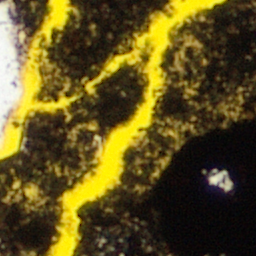cement_matrix: (74, 0, 255, 255), (0, 0, 169, 255), (0, 0, 48, 63), (210, 172, 228, 187), (23, 185, 38, 200), (84, 80, 96, 92)
cracks: (48, 0, 225, 255), (0, 0, 72, 161)
gravel_crushed_stones: (0, 5, 23, 148), (211, 173, 227, 186), (24, 186, 37, 199), (85, 81, 95, 91)
